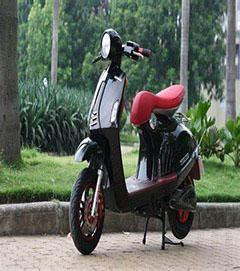motorcycle: (52, 15, 214, 251)
